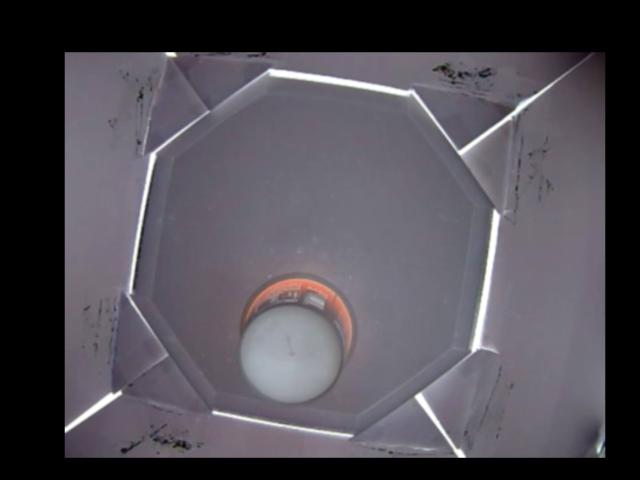Cup: (236, 271, 356, 404)
